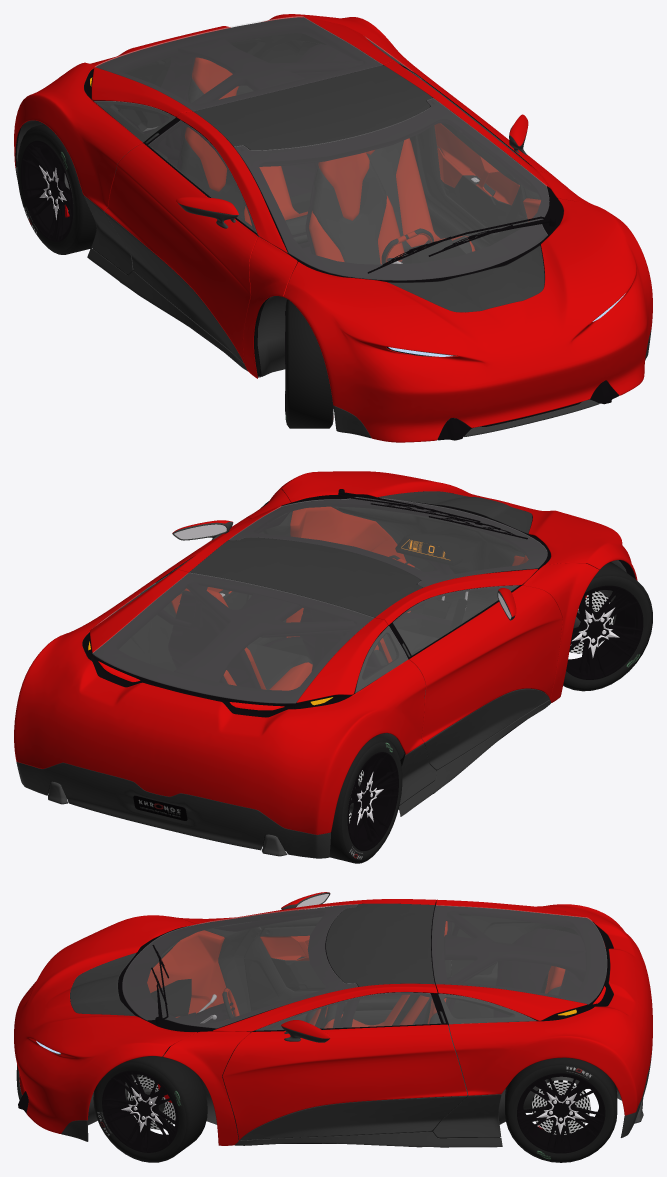
File: CarConcept.glb
The picture shows the model from 3 angles, top to bottom: view 1: azimuth 30°, elevation 25°; view 2: azimuth 150°, elevation 25°; view 3: azimuth 270°, elevation 25°; orthographic projection. The views are drawn at different scales.
Visible parts, largest first — view 1: BodyHood, BodyWindshield, BodyRearwindow, BodyDoorRColor1, BodyRearPanelsColor1, BodyRoofPanel, BodyWindshieldGasket, InteriorSeatsColor1, InteriorSeatsColor2, BodyPillars, InteriorPillar, InteriorRearHatch (+21 smaller); view 2: BodyRearPanelsColor1, BodyRearwindow, BodyWindshield, BodyDoorRColor1, BodyPanelsColor2, BodyRoofPanel, BodyHood, InteriorRearHatch, BodyPillars, InteriorPillar, BodyWindshieldGasket, InteriorDashMid (+22 smaller); view 3: BodyRearPanelsColor1, BodyWindshield, BodyDoorLColor1, BodyHood, BodyRearwindow, BodyRoofPanel, BodyPillars, BodyWindshieldGasket, BodyDoorLColor2, BodyPanelsColor2, WheelFrontL, InteriorRearHatch (+25 smaller).
Boxes of the visible parts, <box> form: BodyHood: <box>283,198,652,442</box>; BodyWindshield: <box>234,98,549,280</box>; BodyRearwindow: <box>95,16,382,110</box>; BodyDoorRColor1: <box>104,143,257,362</box>; BodyRearPanelsColor1: <box>14,14,428,210</box>; BodyRoofPanel: <box>193,65,432,150</box>; BodyWindshieldGasket: <box>234,99,563,282</box>; InteriorSeatsColor1: <box>185,57,475,264</box>; InteriorSeatsColor2: <box>180,78,472,264</box>; BodyPillars: <box>176,61,598,378</box>; InteriorPillar: <box>158,37,434,168</box>; InteriorRearHatch: <box>93,17,383,117</box>; BodyRearPanelsColor1: <box>14,569,425,834</box>; BodyRearwindow: <box>92,573,373,703</box>; BodyWindshield: <box>229,497,547,587</box>; BodyDoorRColor1: <box>409,585,562,742</box>; BodyPanelsColor2: <box>16,700,550,858</box>; BodyRoofPanel: <box>189,537,422,617</box>; BodyHood: <box>279,471,637,580</box>; InteriorRearHatch: <box>93,573,386,707</box>; BodyPillars: <box>175,489,599,702</box>; InteriorPillar: <box>174,574,417,682</box>; BodyWindshieldGasket: <box>230,497,550,587</box>; InteriorDashMid: <box>331,503,528,622</box>; BodyRearPanelsColor1: <box>436,899,652,1115</box>; BodyWindshield: <box>122,904,357,1028</box>; BodyDoorLColor1: <box>222,1024,467,1139</box>; BodyHood: <box>14,915,196,1133</box>; BodyRearwindow: <box>432,905,606,1003</box>; BodyRoofPanel: <box>326,903,434,986</box>; BodyPillars: <box>163,899,437,1145</box>; BodyWindshieldGasket: <box>118,905,357,1032</box>; BodyDoorLColor2: <box>240,1096,467,1140</box>; BodyPanelsColor2: <box>16,1050,652,1147</box>; WheelFrontL: <box>93,1054,207,1162</box>; InteriorRearHatch: <box>431,905,606,1020</box>.
Bounding box in the file's own units: 2.54 × 1.15 × 4.36.
Materials: 23 (6 with a texture image).
